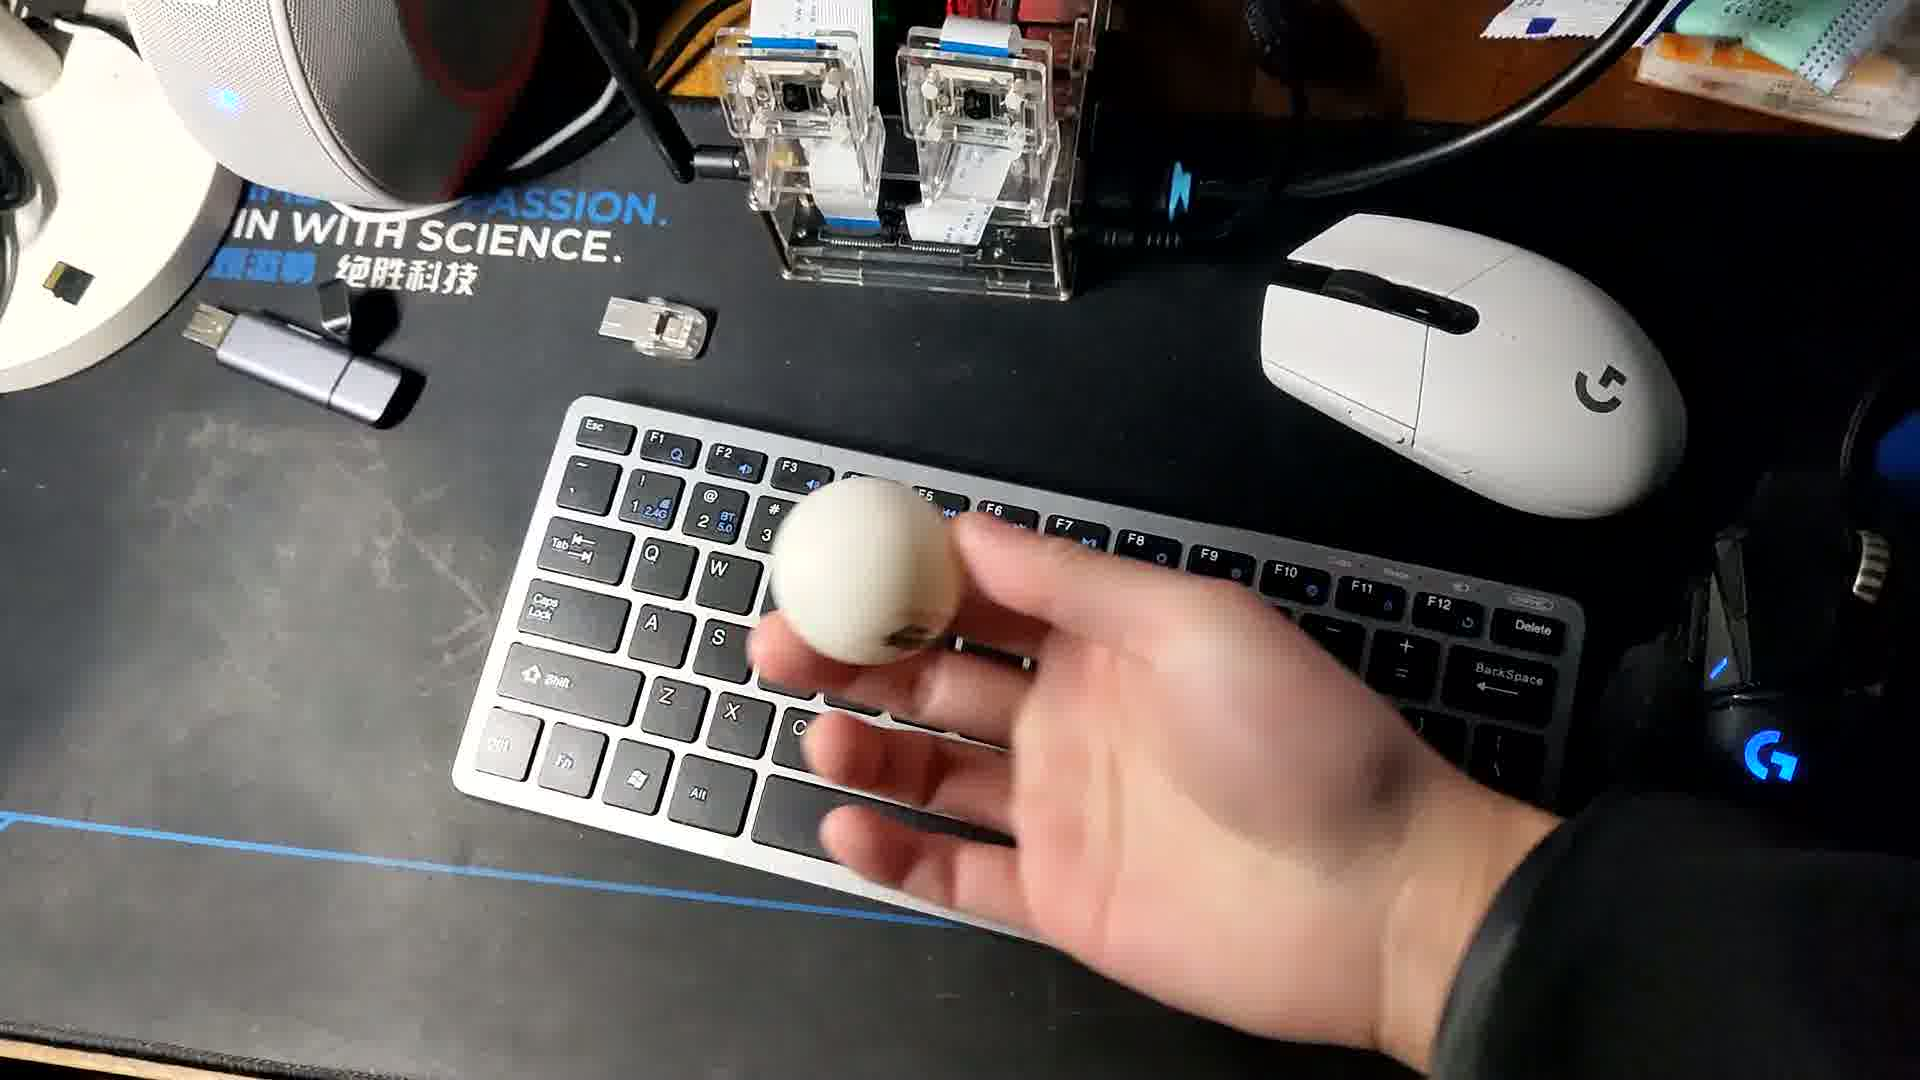Ball: (773, 477, 964, 671)
